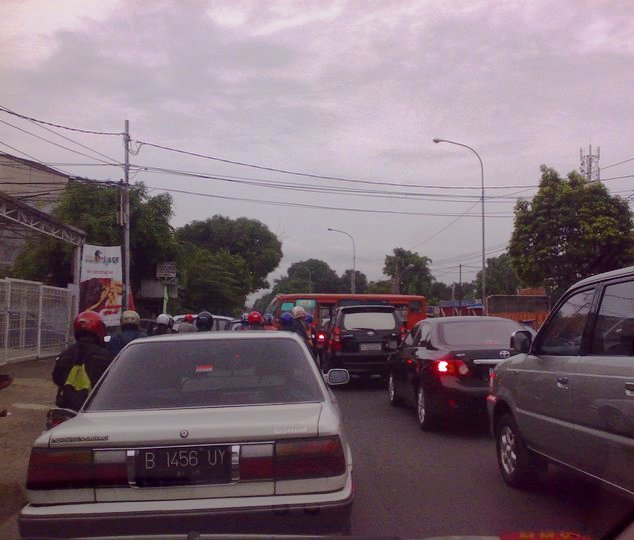plate: (135, 446, 228, 483)
